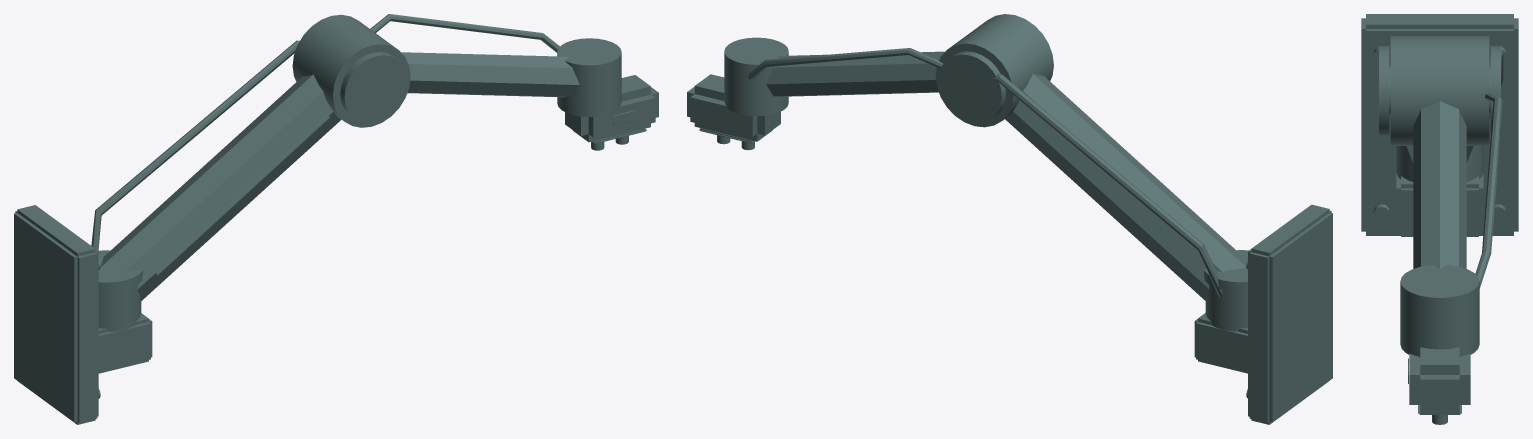
File: OBJ-050_BrazoClinico.fbx
3 renders of one model, left to right at view 1: azimuth 30°, elevation 25°; view 2: azimuth 150°, elevation 25°; view 3: azimuth 270°, elevation 25°, orthographic. The views are drawn at different scales.
Parts seen in each view (by area): view 1: GEO-050-Upper, GEO-050-Base, GEO-050-Forearm; view 2: GEO-050-Upper, GEO-050-Base, GEO-050-Forearm; view 3: GEO-050-Forearm, GEO-050-Base, GEO-050-Upper.
Boxes of the visible parts, bbox=[...] form: GEO-050-Upper: bbox=[91, 14, 410, 301]; GEO-050-Base: bbox=[14, 205, 152, 424]; GEO-050-Forearm: bbox=[370, 14, 658, 150]; GEO-050-Upper: bbox=[935, 14, 1248, 301]; GEO-050-Base: bbox=[1194, 204, 1332, 424]; GEO-050-Forearm: bbox=[687, 37, 944, 150]; GEO-050-Forearm: bbox=[1389, 66, 1502, 424]; GEO-050-Base: bbox=[1361, 14, 1518, 236]; GEO-050-Upper: bbox=[1379, 36, 1503, 162].
Bounding box in the file's own units: 1.48 × 0.695 × 0.27.
